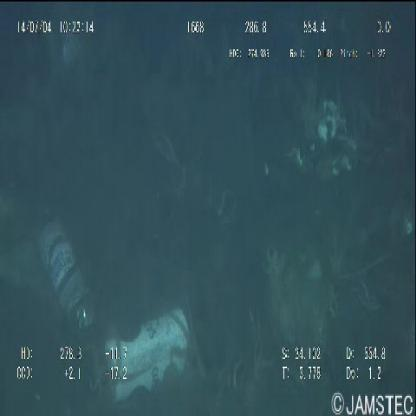Rác: (99, 310, 191, 406)
